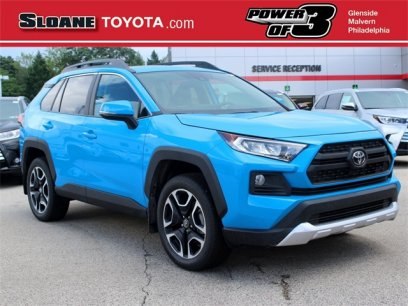Toyota RAV-4: (17, 64, 403, 272)
